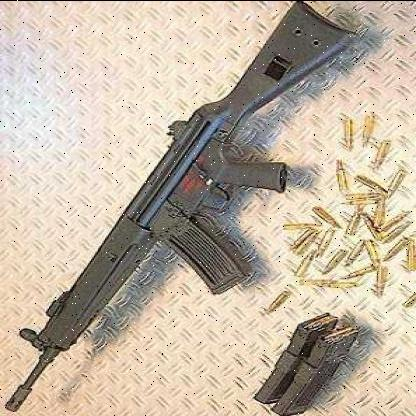rifle: (3, 1, 367, 410)
